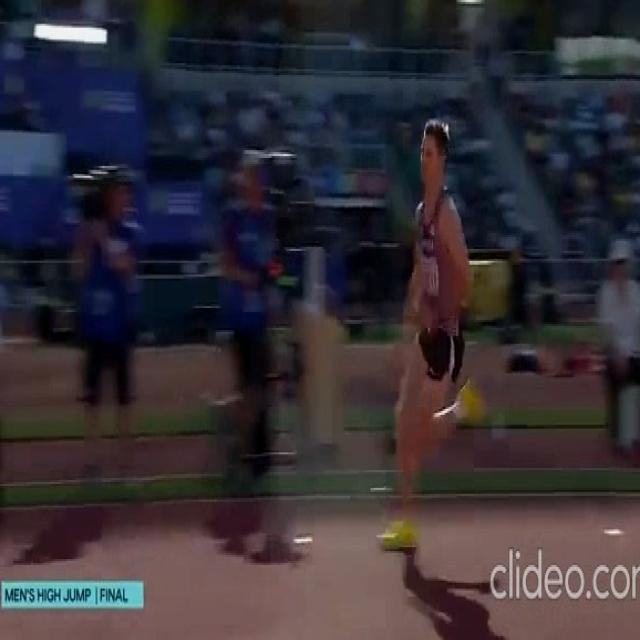run: (376, 119, 486, 550)
